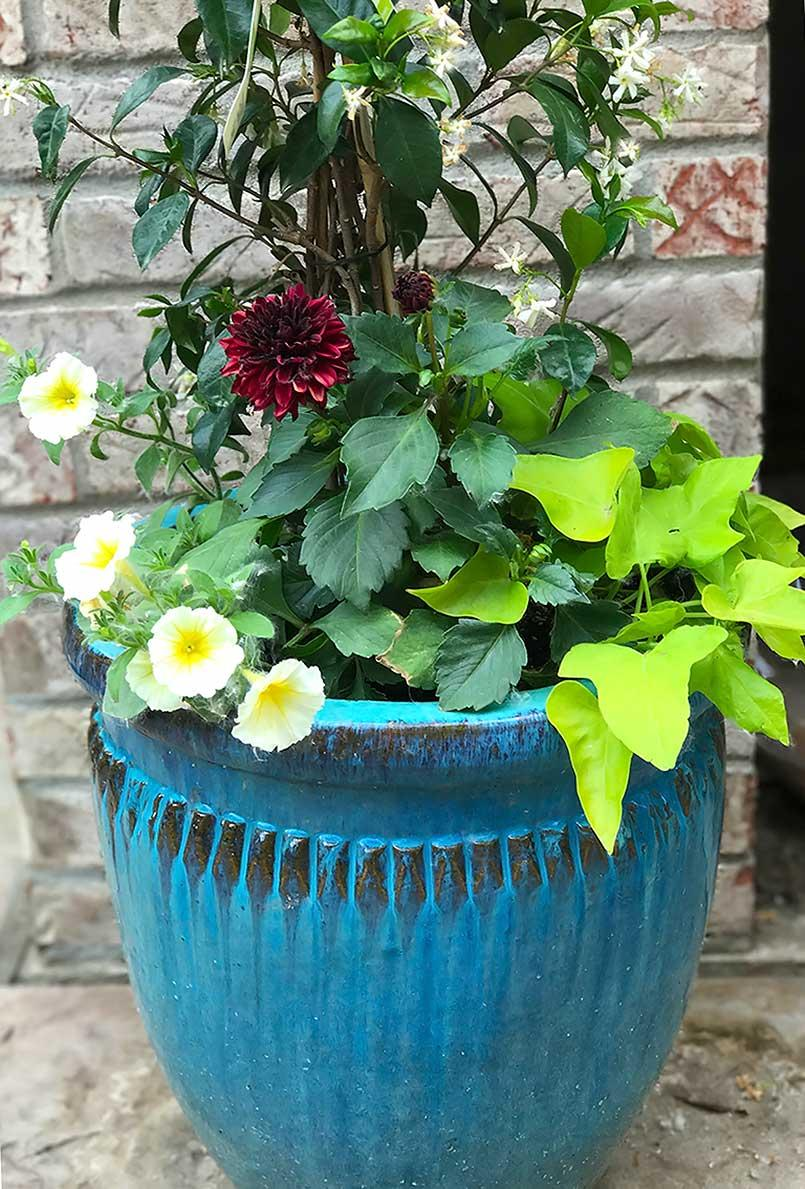flowerPot: (82, 648, 748, 1189)
